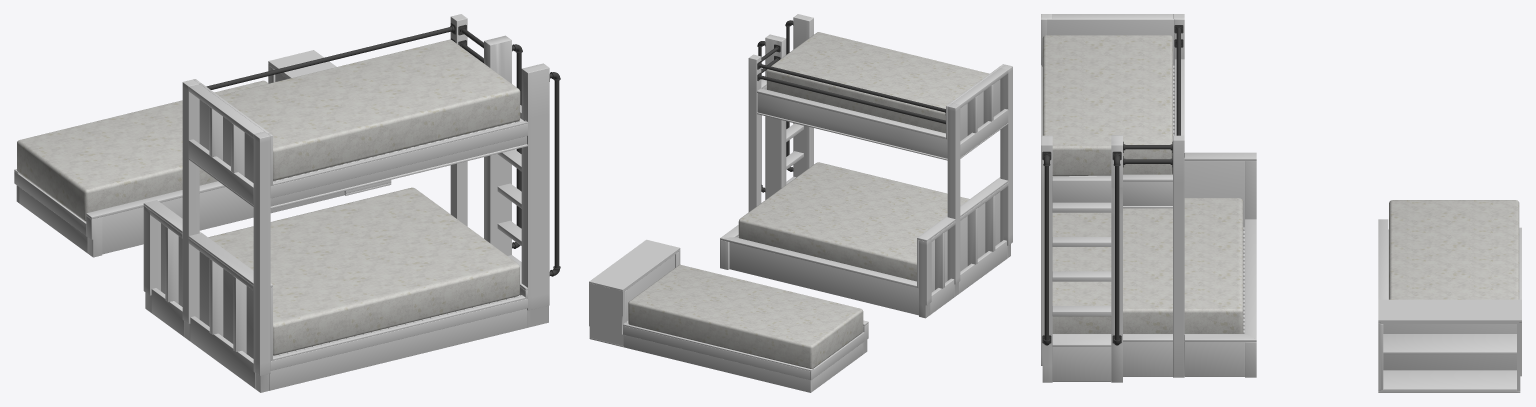
Rendered from bunks1.glb.
The picture shows the model from 3 angles, left to right: view 1: azimuth 30°, elevation 25°; view 2: azimuth 150°, elevation 25°; view 3: azimuth 270°, elevation 25°; orthographic projection. The views are drawn at different scales.
Visible parts, largest first — view 1: mattress.003, mattress.002, mattress.001, carcus.084, carcus.031, carcus.032, carcus.024, carcus.004, carcus.054, carcus.085, carcus.053, carcus.029 (+26 smaller); view 2: mattress.003, mattress.001, mattress.002, carcus.020, carcus.047, carcus.002, carcus.024, shelf.006, carcus.032, carcus.085, carcus.041, shelf.001 (+24 smaller); view 3: mattress.003, mattress.002, mattress.001, shelf.002, shelf.006, shelf.003, carcus.041, shelf.004, carcus.029, carcus.036, carcus.042, carcus.085 (+21 smaller).
Part boxes in pixels (x1,y1,x2,y2): mattress.003: (208, 187, 519, 355); mattress.002: (219, 39, 520, 180); mattress.001: (17, 80, 268, 221); carcus.084: (521, 63, 549, 327); carcus.031: (269, 308, 526, 390); carcus.032: (253, 131, 270, 392); carcus.024: (182, 79, 199, 340); carcus.004: (102, 187, 344, 254); carcus.054: (270, 123, 527, 198); carcus.085: (484, 35, 511, 255); carcus.053: (270, 121, 526, 206); carcus.029: (161, 223, 253, 358); mattress.003: (738, 162, 969, 281); mattress.001: (628, 264, 863, 368); mattress.002: (766, 32, 989, 133); carcus.020: (729, 242, 918, 315); carcus.047: (757, 93, 947, 158); carcus.002: (623, 335, 812, 392); carcus.024: (947, 103, 960, 296); shelf.006: (589, 239, 680, 291); carcus.032: (1000, 64, 1012, 258); carcus.085: (765, 34, 786, 199); carcus.041: (748, 54, 761, 211); shelf.001: (589, 283, 624, 345); mattress.003: (1052, 198, 1243, 333); mattress.002: (1042, 35, 1172, 176); mattress.001: (1389, 200, 1519, 299); shelf.002: (1383, 324, 1516, 370); shelf.006: (1378, 299, 1521, 323); shelf.003: (1378, 370, 1520, 392); carcus.041: (1173, 135, 1184, 377); shelf.004: (1383, 334, 1516, 354); carcus.029: (1184, 161, 1244, 228); carcus.036: (1047, 19, 1174, 65); carcus.042: (1184, 342, 1244, 376); carcus.085: (1111, 135, 1122, 382).
Size of the model in its own units: 2.55 by 1.99 by 3.65.
Materials: 3 (1 with a texture image).
